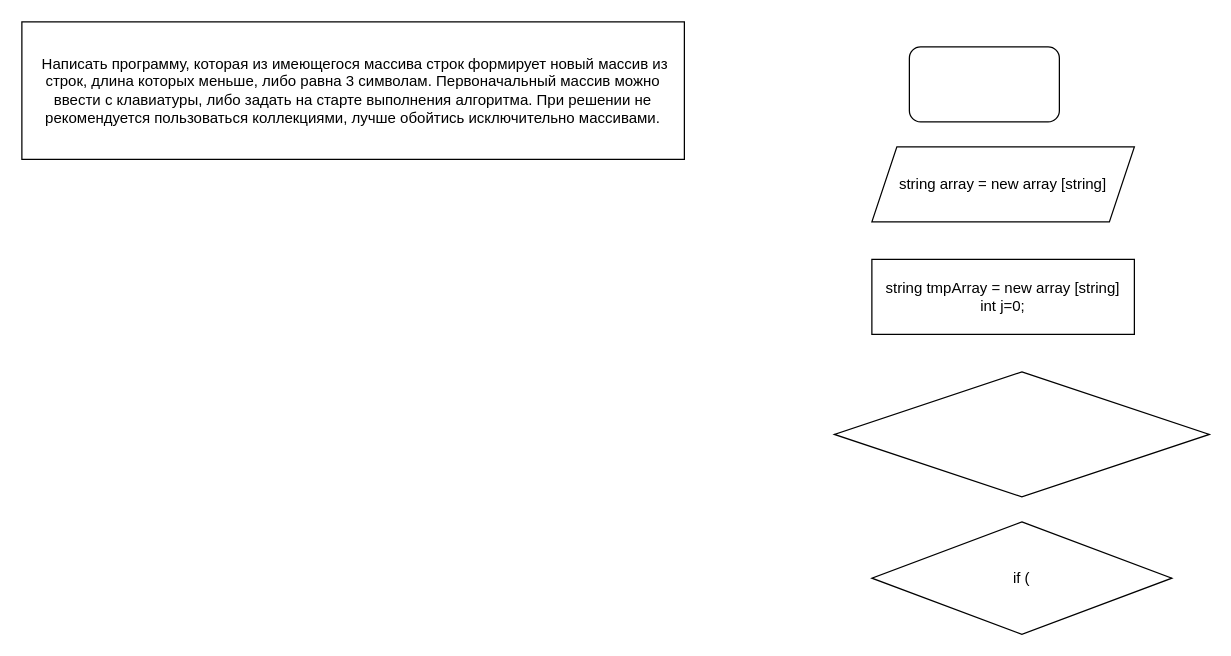
Some shapes in this 1231 by 656 pixel diagram are drawn without their labels. The shapes that lost their labels are listed below. From the top down, each one's centre as x and y in pixels, then its label:
At (983,84): "Начало".
At (1021,434): "for (int i = 0; i < array.Length; i++)".
